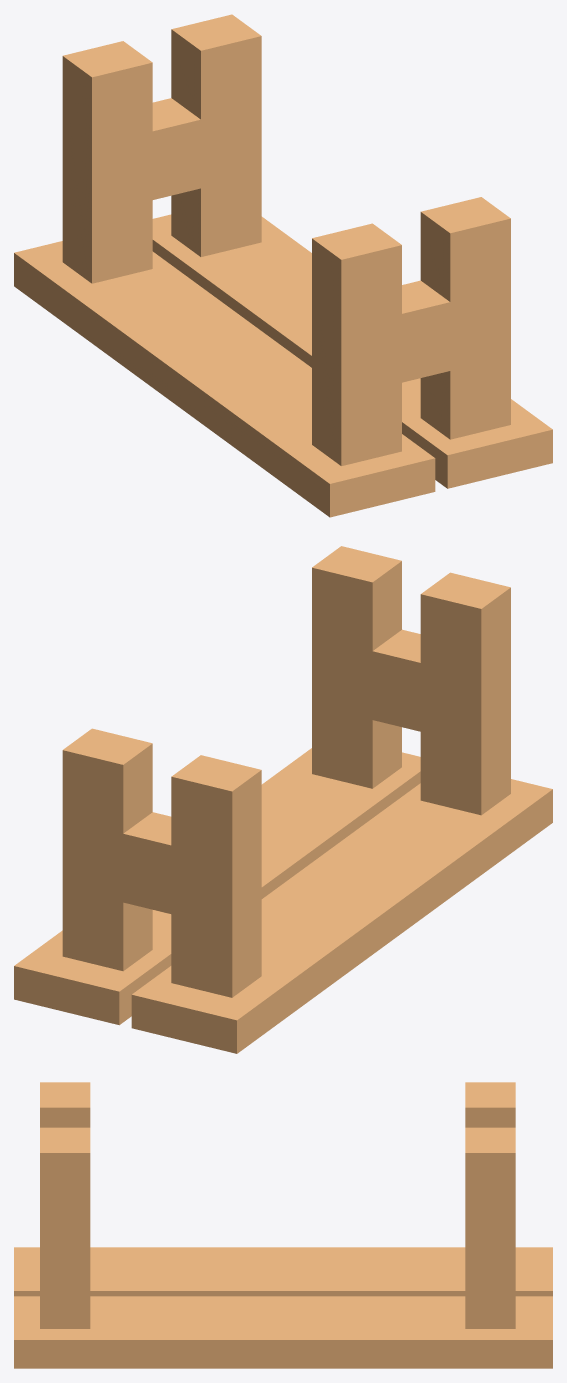
Rendered from cc_bench_v2.fbx.
The picture shows the model from 3 angles, top to bottom: view 1: azimuth 30°, elevation 25°; view 2: azimuth 150°, elevation 25°; view 3: azimuth 270°, elevation 25°; orthographic projection. The views are drawn at different scales.
Parts seen in each view (by area): view 1: Cube.001, Cube.002; view 2: Cube.001, Cube.002; view 3: Cube.002, Cube.001.
Part boxes in pixels (left/top/right/bottom): Cube.001: left=62, top=14, right=510, bottom=466; Cube.002: left=14, top=214, right=552, bottom=517; Cube.001: left=62, top=546, right=510, bottom=997; Cube.002: left=14, top=748, right=552, bottom=1053; Cube.002: left=14, top=1247, right=552, bottom=1368; Cube.001: left=40, top=1082, right=515, bottom=1328.
Bounding box in the file's own units: 255 × 262 × 626.
